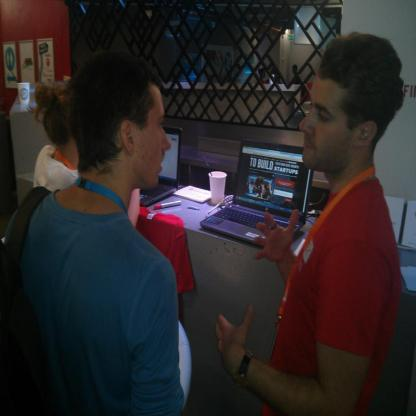board: (200, 138, 314, 250), (140, 125, 182, 209), (208, 170, 226, 207), (17, 82, 30, 107)
